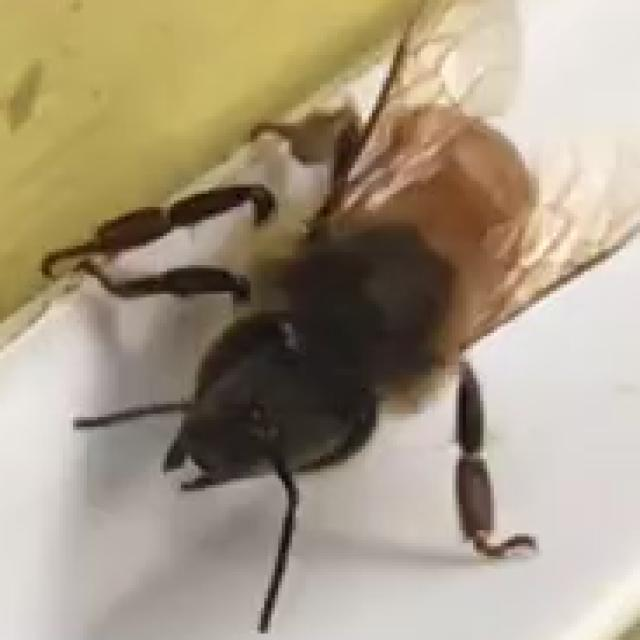honeybee: (118, 61, 640, 640)
